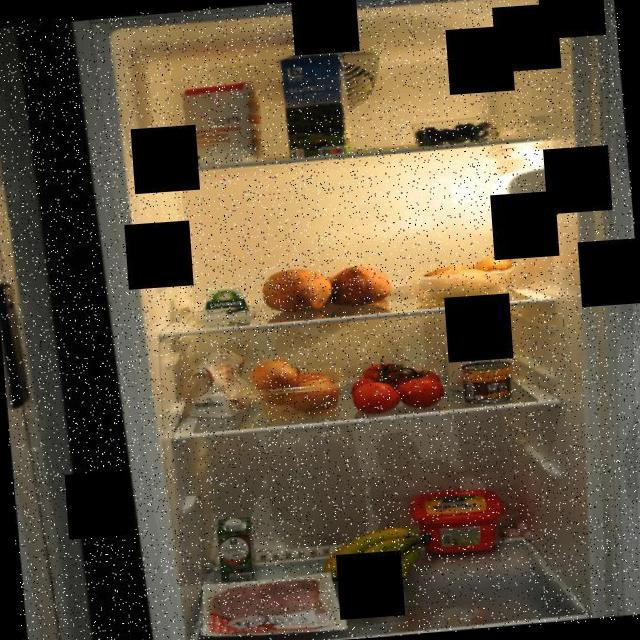Carne cerdo: (196, 570, 349, 640)
Cebolla: (248, 350, 349, 424)
Leche: (273, 41, 352, 168)
Mantequilla: (405, 483, 508, 558)
Patata: (408, 251, 520, 303)
Plátano: (317, 523, 436, 594)
Queso: (193, 282, 256, 322)
Tomate: (344, 354, 447, 417)
blueberries: (405, 112, 505, 148)
corn: (460, 358, 514, 404)
flour: (185, 338, 262, 425)
heavy_cream: (213, 516, 256, 582)
sugar: (179, 79, 265, 167), (438, 302, 515, 393)
sweet_potato: (256, 256, 394, 320)
